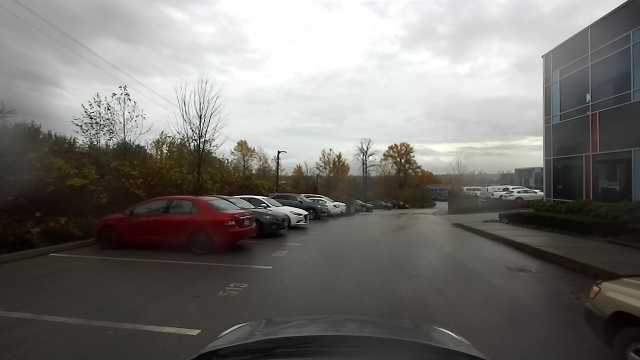car: (93, 195, 257, 254), (574, 263, 640, 360), (499, 184, 542, 207), (305, 193, 343, 217), (281, 202, 313, 226), (256, 210, 290, 232), (352, 200, 374, 213), (461, 183, 480, 198), (481, 184, 498, 200), (372, 198, 392, 210), (392, 200, 409, 211)
